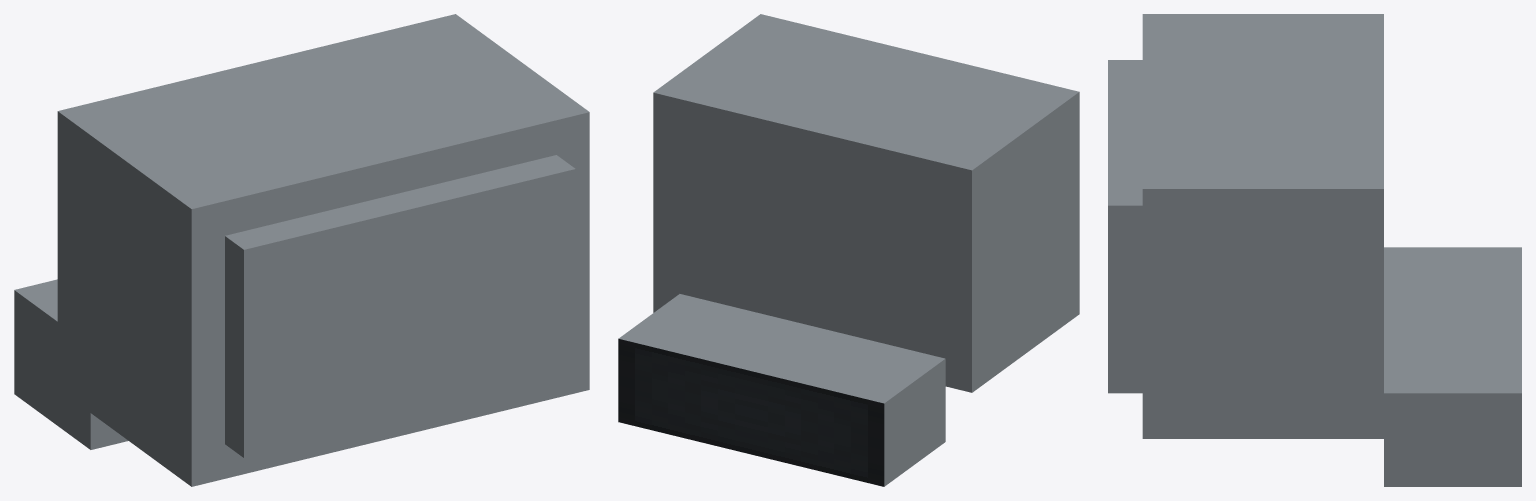
File: lps_wall_pack_off.obj
The picture shows the model from 3 angles, left to right: view 1: azimuth 30°, elevation 25°; view 2: azimuth 150°, elevation 25°; view 3: azimuth 270°, elevation 25°; orthographic projection. The views are drawn at different scales.
Visible parts, largest first — view 1: lps_wall_pack_off; view 2: lps_wall_pack_off; view 3: lps_wall_pack_off.
Boxes of the visible parts, x1=… form: lps_wall_pack_off: x1=14, y1=14, x2=589, y2=486; lps_wall_pack_off: x1=618, y1=14, x2=1079, y2=486; lps_wall_pack_off: x1=1108, y1=14, x2=1521, y2=486.
Bounding box in the file's own units: 0.75 × 0.625 × 0.75.
